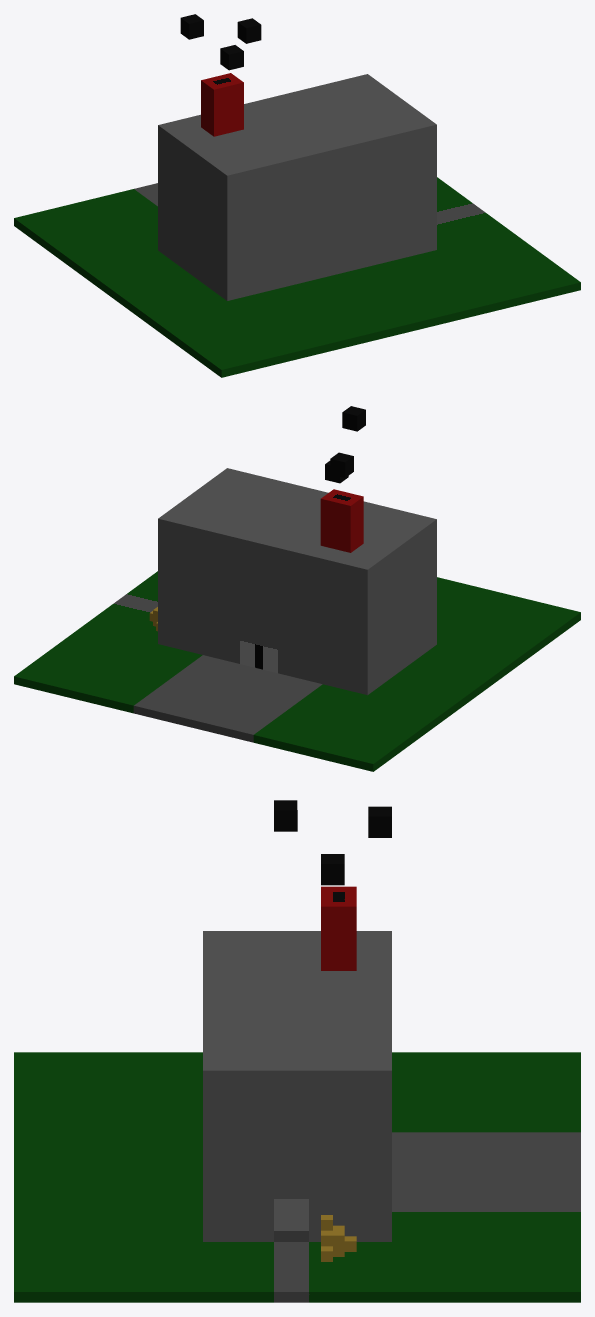
The model's file is factory.gltf.
The picture shows the model from 3 angles, top to bottom: view 1: azimuth 30°, elevation 25°; view 2: azimuth 150°, elevation 25°; view 3: azimuth 270°, elevation 25°; orthographic projection. The views are drawn at different scales.
Parts seen in each view (by area): view 1: cube (×7); view 2: cube (×8); view 3: cube (×9).
Part boxes in pixels (x1,y1,x2,y2): cube (×7): (14, 14, 580, 377); cube (×8): (14, 406, 580, 771); cube (×9): (14, 800, 580, 1302).
Bounding box in the file's own units: 3 × 2 × 3.
Materials: 13 (13 with a texture image).
